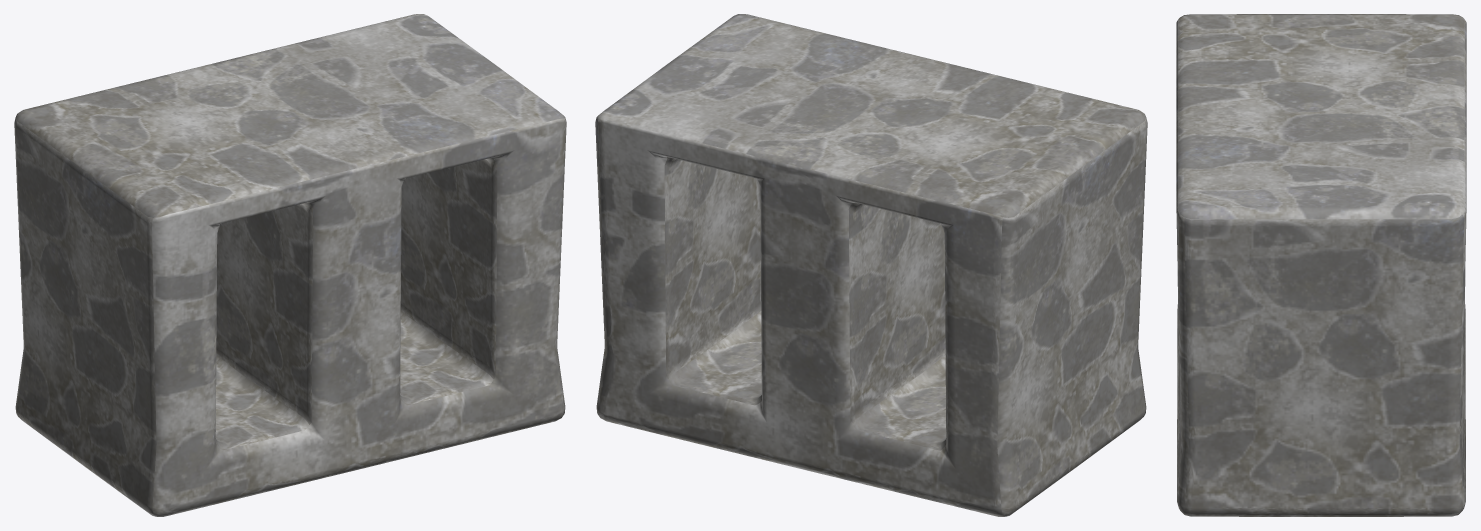
File: SM_ChimneyBaseTopper.fbx
The picture shows the model from 3 angles, left to right: view 1: azimuth 30°, elevation 25°; view 2: azimuth 150°, elevation 25°; view 3: azimuth 270°, elevation 25°; orthographic projection.
Visible parts, largest first — view 1: SM_ChimneyBaseTopper_LOD0; view 2: SM_ChimneyBaseTopper_LOD0; view 3: SM_ChimneyBaseTopper_LOD0.
Part boxes in pixels (x1,y1,x2,y2): SM_ChimneyBaseTopper_LOD0: (14,14,566,516); SM_ChimneyBaseTopper_LOD0: (595,14,1147,516); SM_ChimneyBaseTopper_LOD0: (1176,14,1466,516).
Bounding box in the file's own units: 97.44 × 58.54 × 68.69.
1 material, 1 textured.
